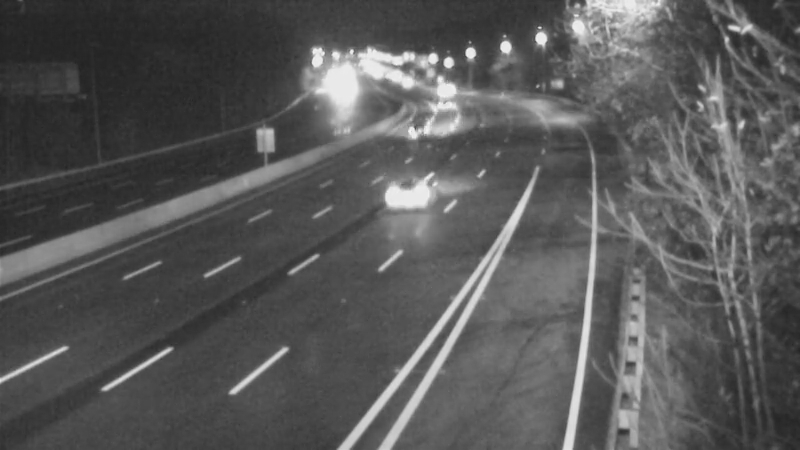vehicle: (377, 154, 457, 234), (415, 61, 465, 111), (420, 85, 470, 135), (395, 106, 445, 156), (313, 69, 363, 119)
